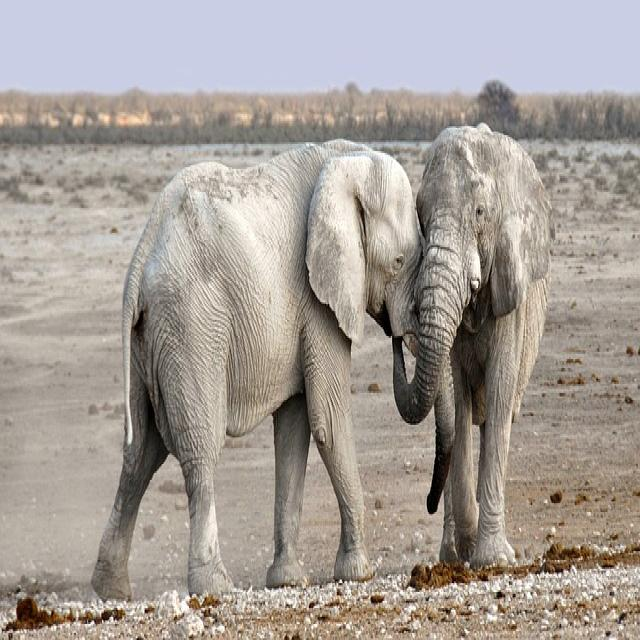elephant: (92, 140, 420, 597), (392, 124, 552, 568)
